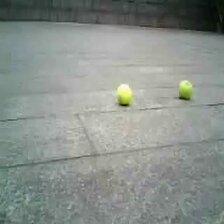tennis: (116, 84, 132, 105), (177, 80, 193, 99)
